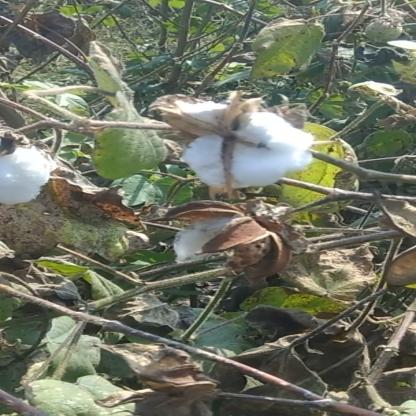cotton_ready: (112, 94, 354, 196)
